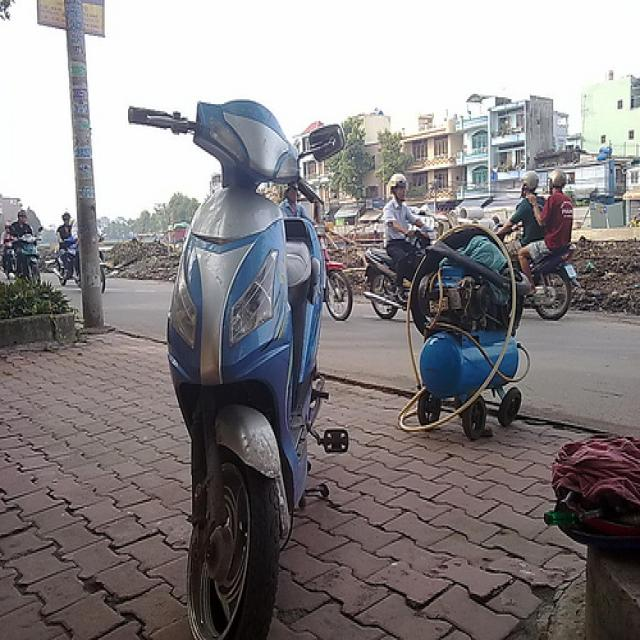motor: (123, 96, 358, 629), (491, 223, 582, 322), (363, 225, 437, 320), (316, 217, 354, 321), (16, 224, 44, 286), (50, 237, 81, 284), (1, 239, 16, 283)
